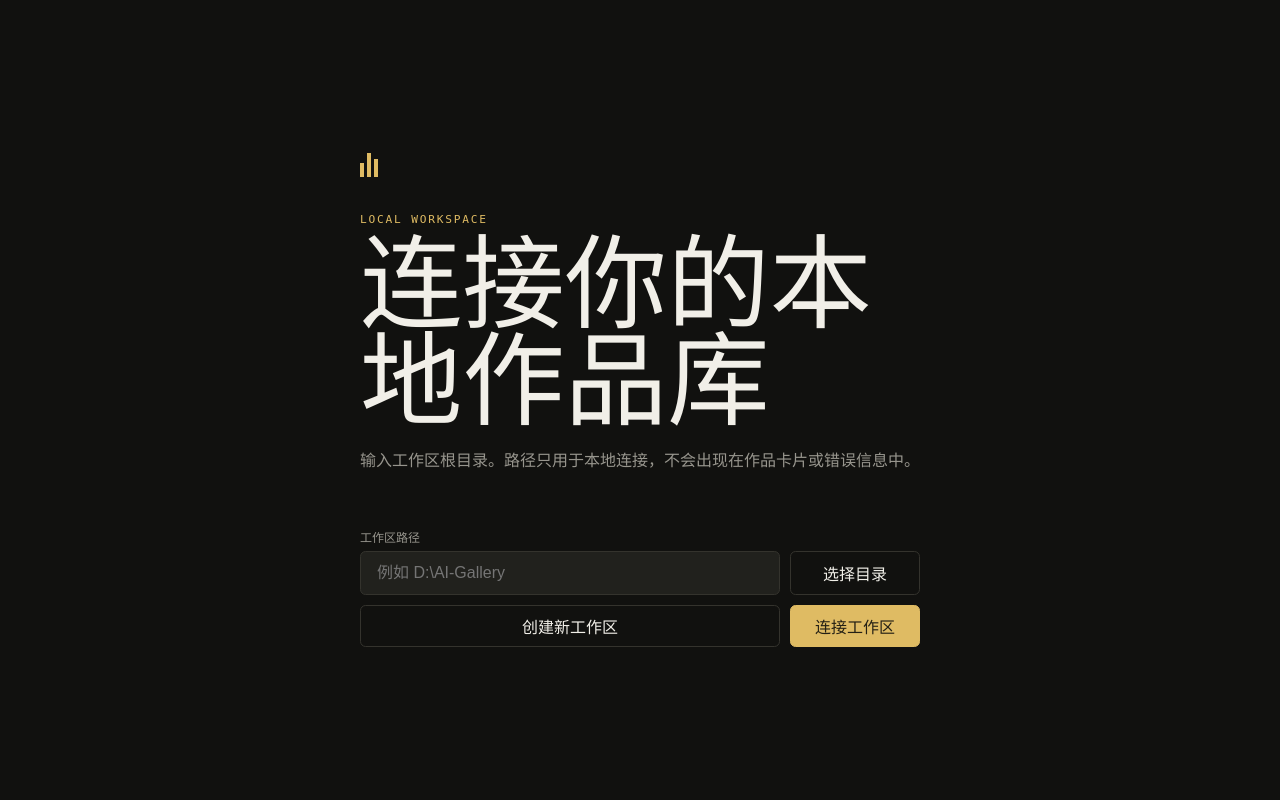
M2 作品库页面 › 未打开工作区时通过路径连接，但不在完成页展示路径
The image size is (1280, 800).
Type "D:\\Private\\AI-Gallery" into the field labelled "工作区路径" at coordinates (570, 573), box [360, 551, 780, 595]
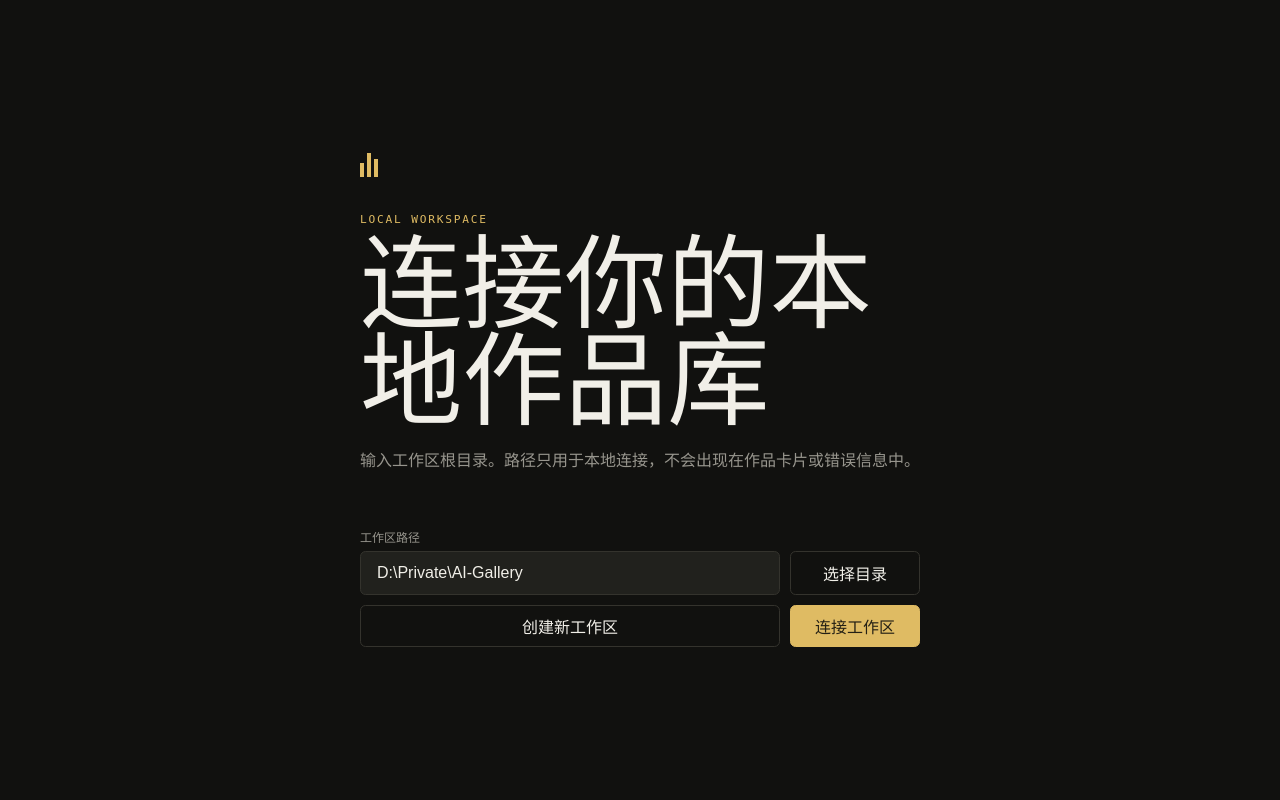
Click the button "连接工作区" at coordinates (855, 626), box [790, 605, 920, 648]
(page scrolled)
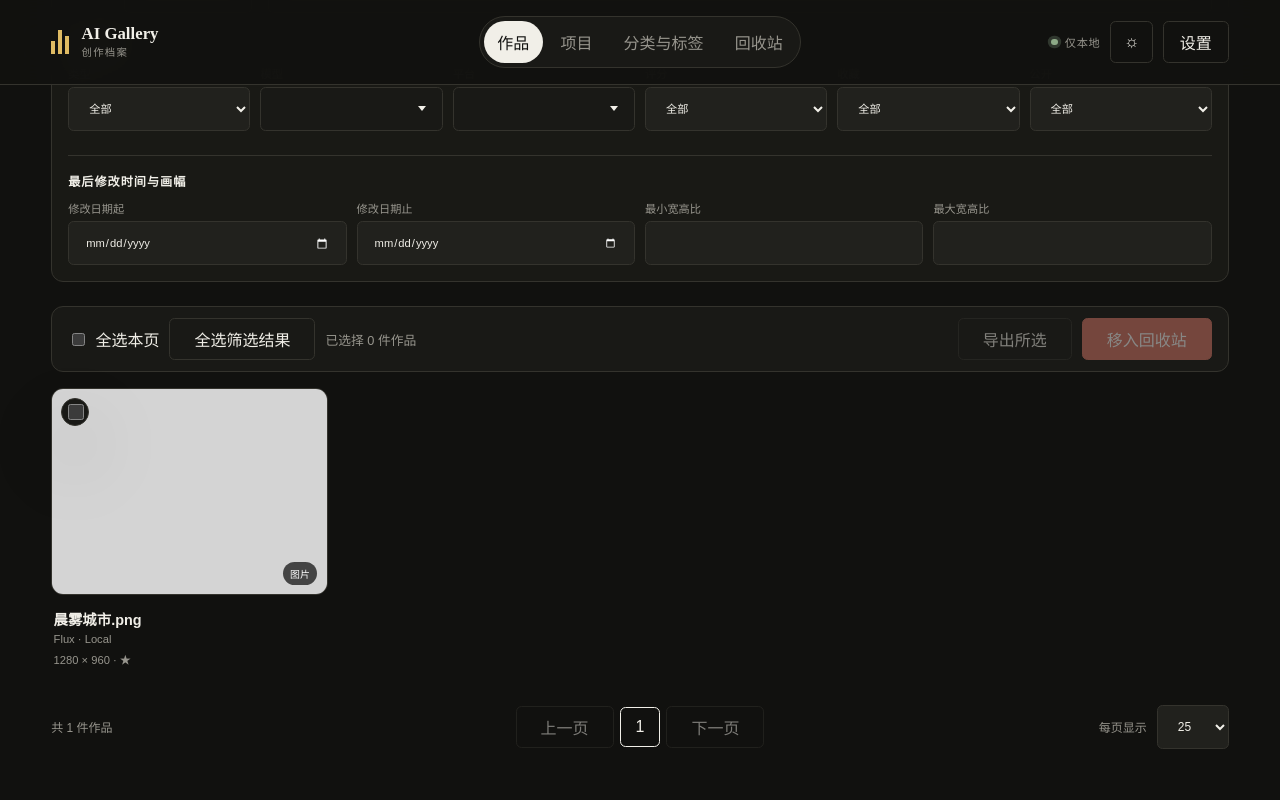
Check: the text "D:\\Private\\AI-Gallery" is not shown
Check: the heading "晨雾城市.png" is shown, box [54, 612, 142, 628]
